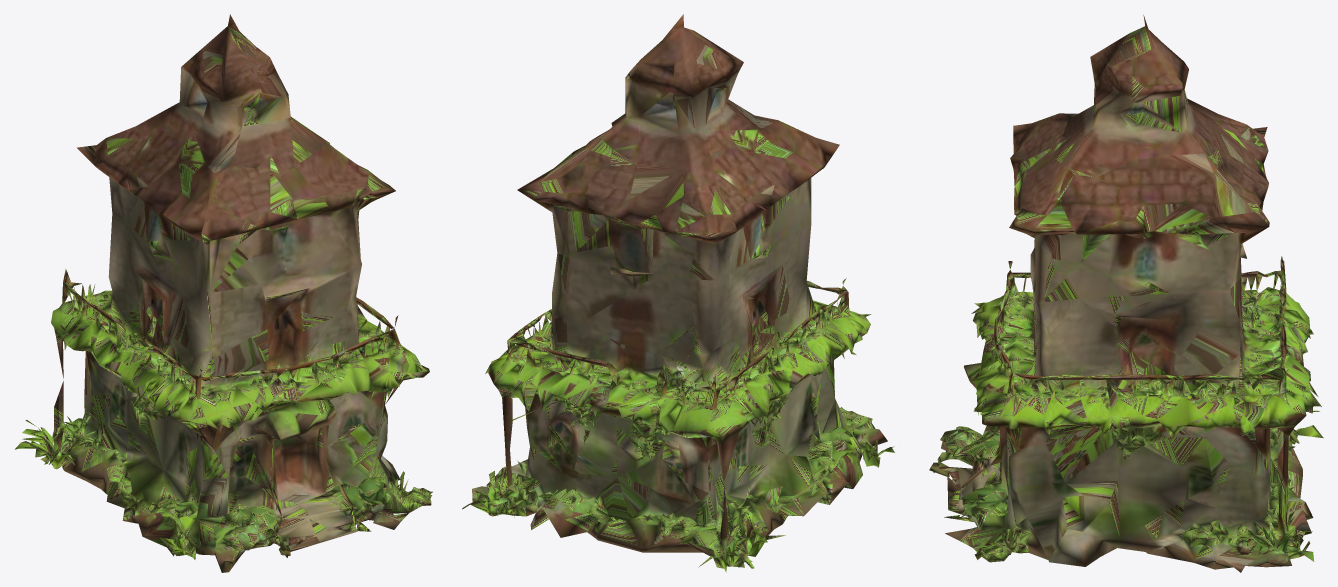
File: bq_tower_house.lod1.glb
3 renders of one model, left to right at view 1: azimuth 30°, elevation 25°; view 2: azimuth 150°, elevation 25°; view 3: azimuth 270°, elevation 25°, orthographic. The views are drawn at different scales.
Size of the model in its own units: 1.16 by 1.76 by 1.3.
1 material, 1 textured.
